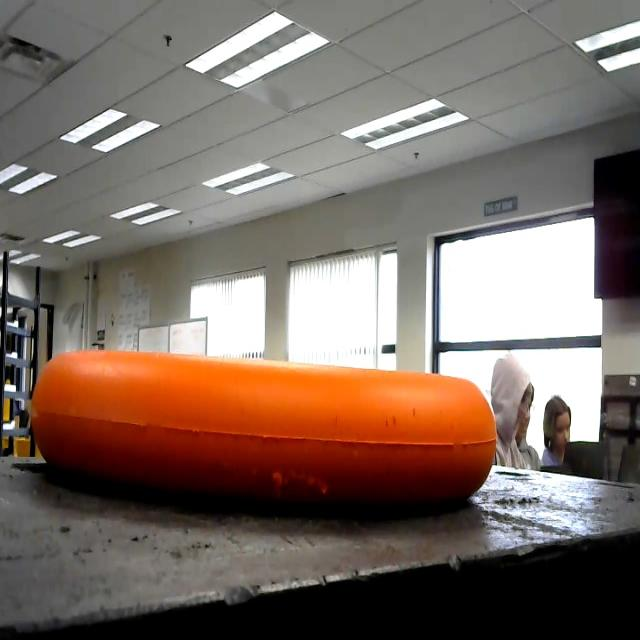note: (23, 336, 517, 527)
